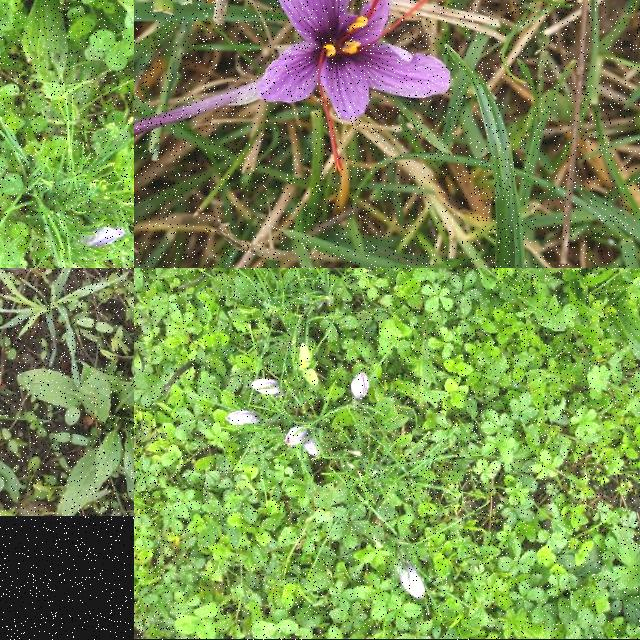flower: (254, 0, 472, 174), (398, 564, 427, 600), (82, 228, 126, 246), (226, 411, 260, 427), (350, 373, 370, 399), (252, 379, 282, 396), (285, 426, 309, 446), (306, 438, 320, 456)
